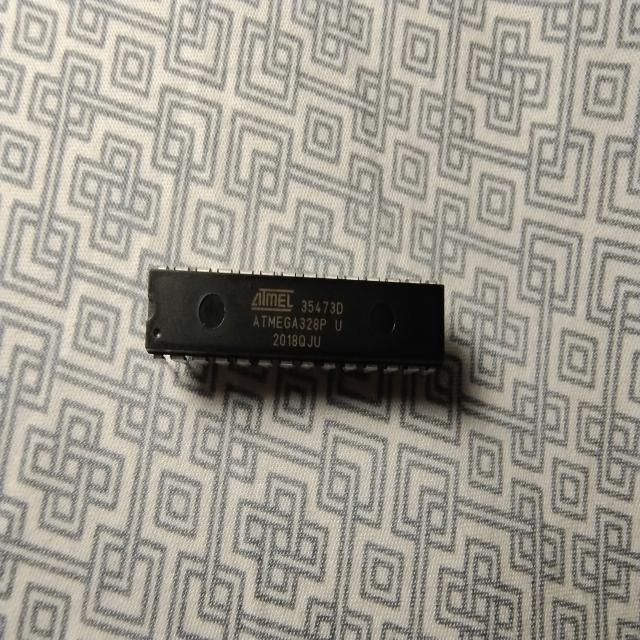atmega: (143, 264, 447, 385)
